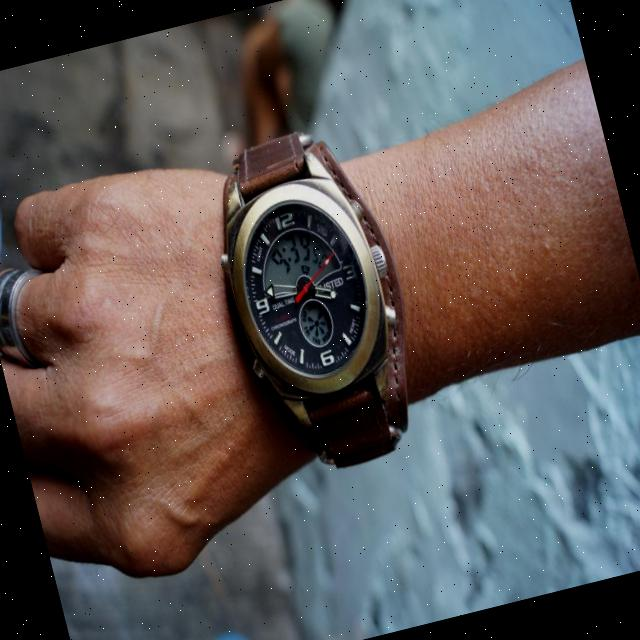Wrist watch: (194, 117, 439, 487)
